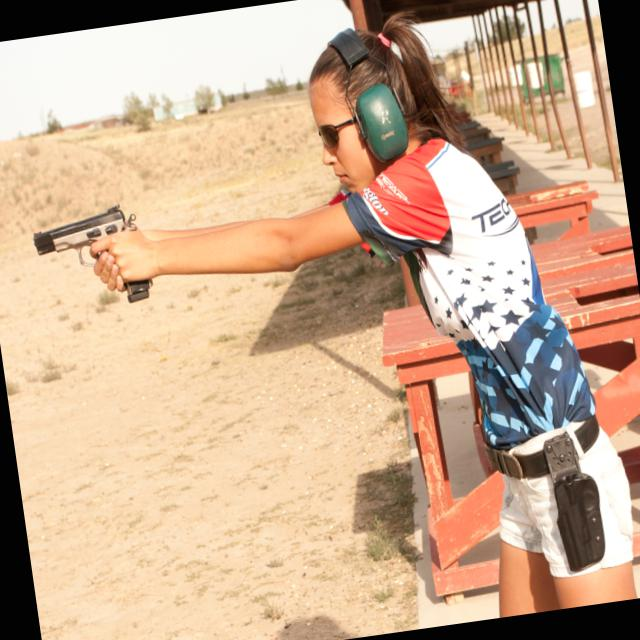handgun: (27, 193, 161, 320)
